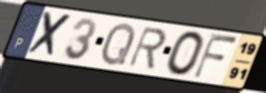3: (64, 17, 98, 61)
F: (191, 31, 240, 81)
O: (164, 30, 206, 77)
Q: (99, 22, 137, 68)
R: (126, 26, 169, 71)
X: (25, 10, 75, 60)
